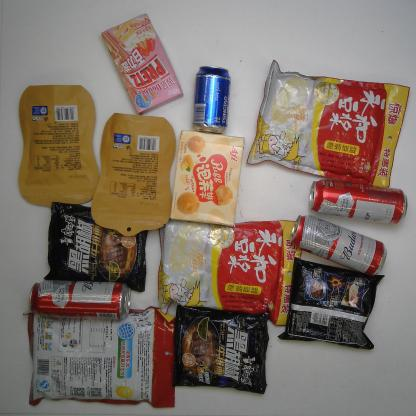Alcohol: (287, 211, 390, 278), (306, 176, 410, 226), (26, 278, 132, 326), (188, 62, 234, 138)
Dessert: (98, 11, 185, 118), (165, 127, 247, 230)
Dried Fruit: (88, 109, 179, 240), (14, 81, 102, 211)
Instant Drink: (244, 57, 412, 191), (155, 215, 304, 329), (19, 304, 179, 410)
Instant Noodles: (274, 255, 386, 352), (40, 200, 150, 294), (170, 302, 272, 396)
